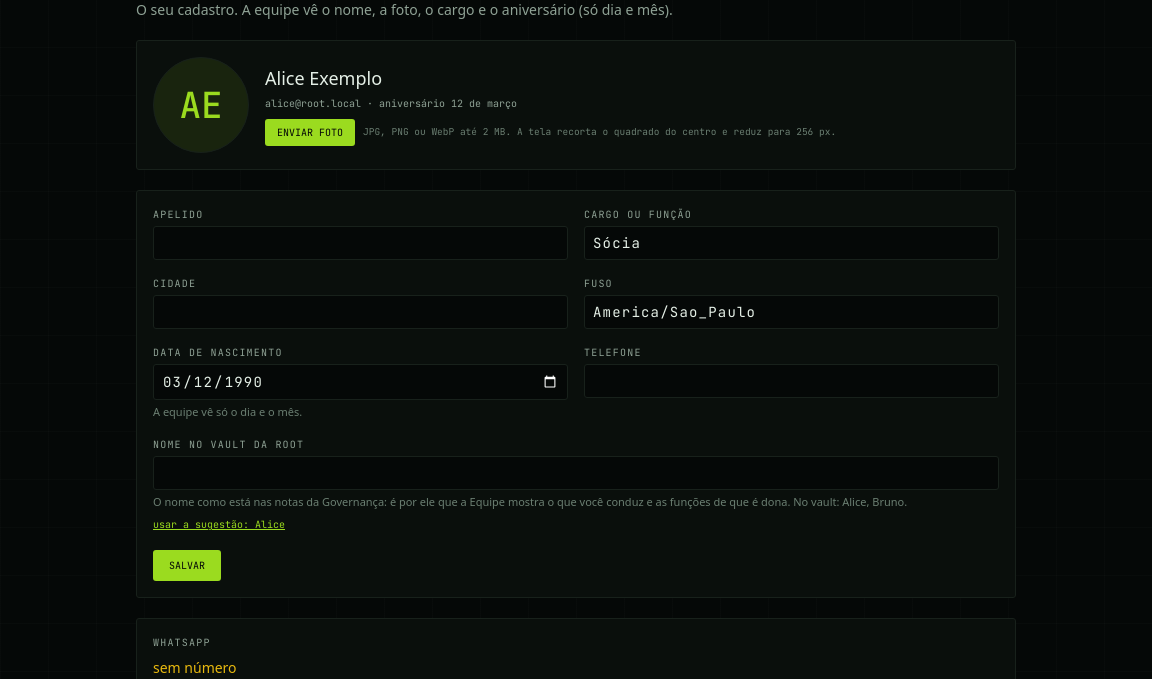
Test: o perfil › a sugestão do nome no vault preenche o campo; o 409 da API aparece
Click the button "usar a sugestão: Alice".
click(219, 524)  # box [153,517,285,532]
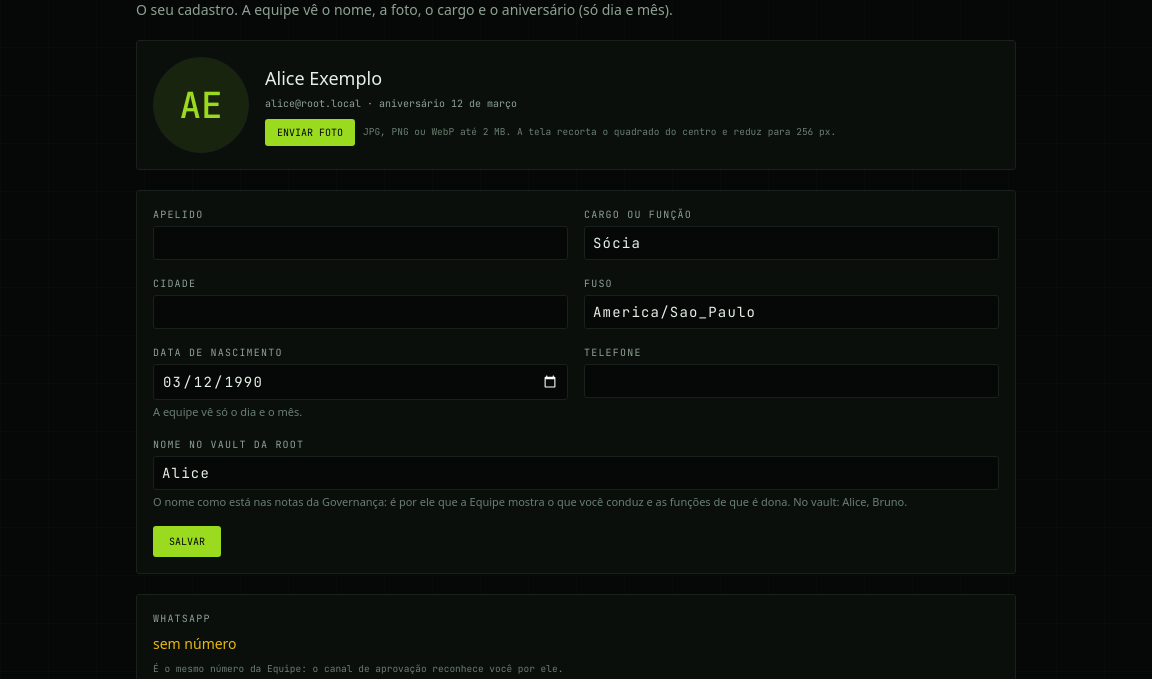
expect the field labelled "Nome no vault da Root" holds "Alice": met, box [153,456,999,490]
Click the button "salvar".
click(187, 542)  # box [153,526,221,557]
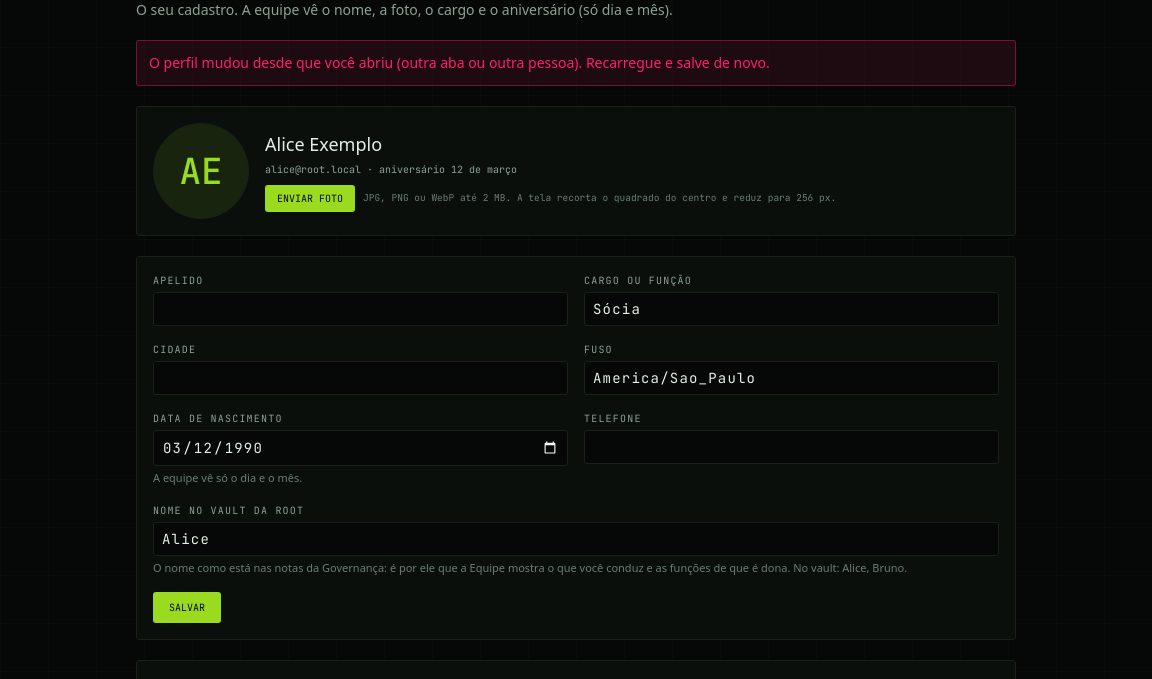
expect the message shows "Recarregue": met, box [149,53,770,72]
